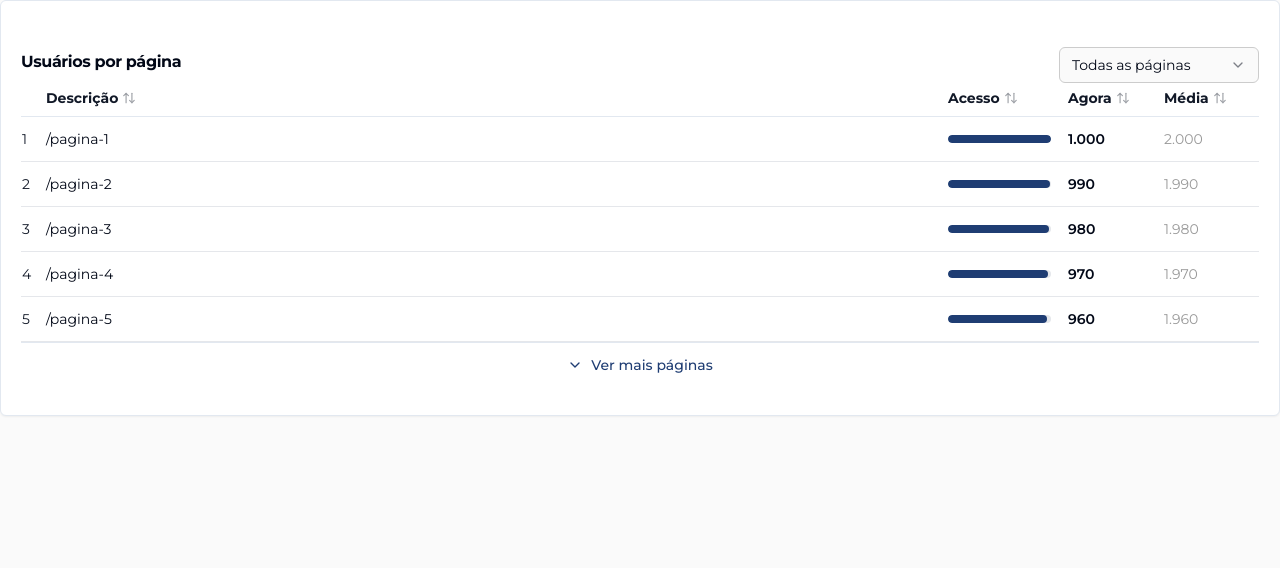
Test case: <UsersByPageCard /> › expande e colapsa a lista ao clicar em 'Ver mais páginas'
The width and height of the screenshot is (1280, 568).
Click the button "Ver mais páginas": (640, 365) [567, 355, 713, 375]
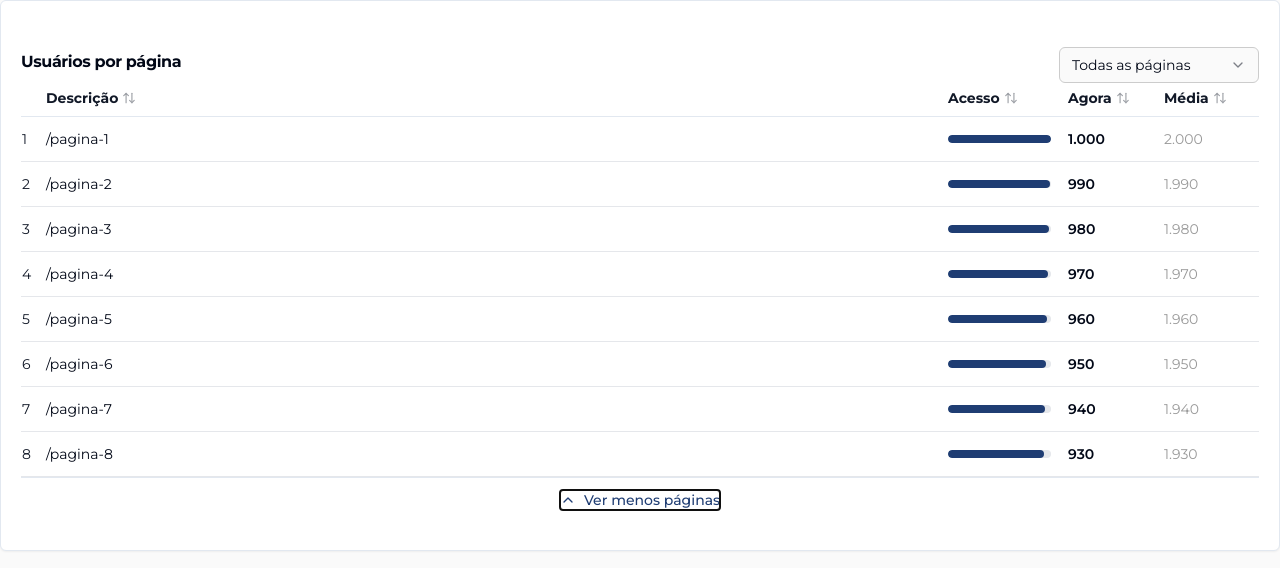
Check: the row with test id "users-by-page-row-8" shows "/pagina-8", box [46, 445, 113, 463]
Click the button "Ver menos páginas": (640, 500) [560, 490, 720, 510]
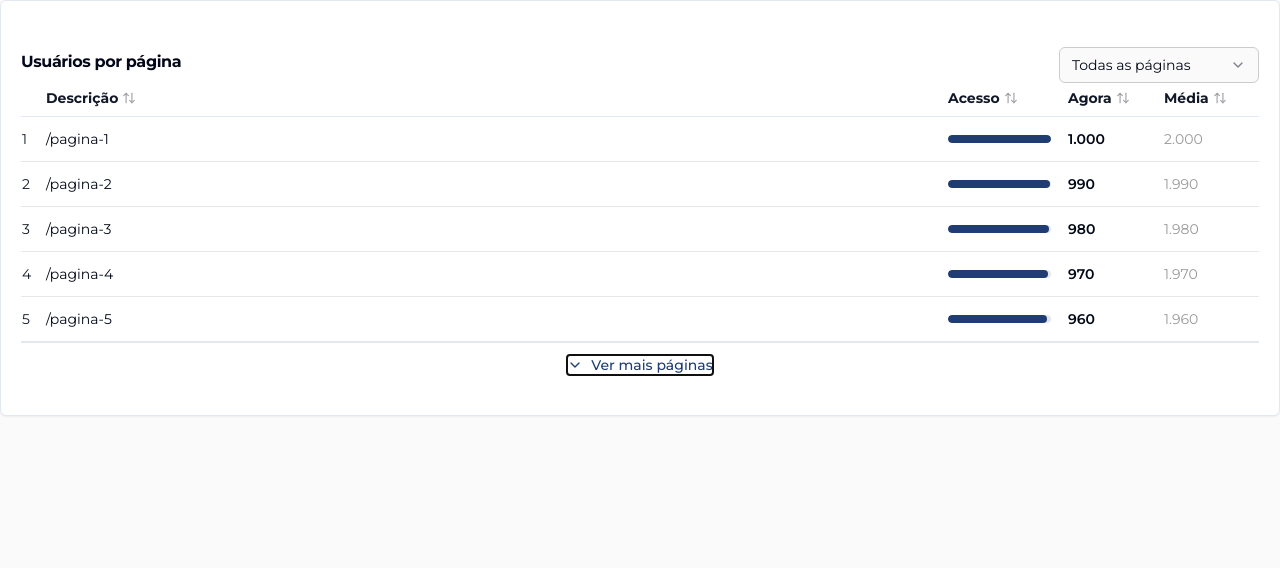
Check: the row with test id "users-by-page-row-6" is gone
